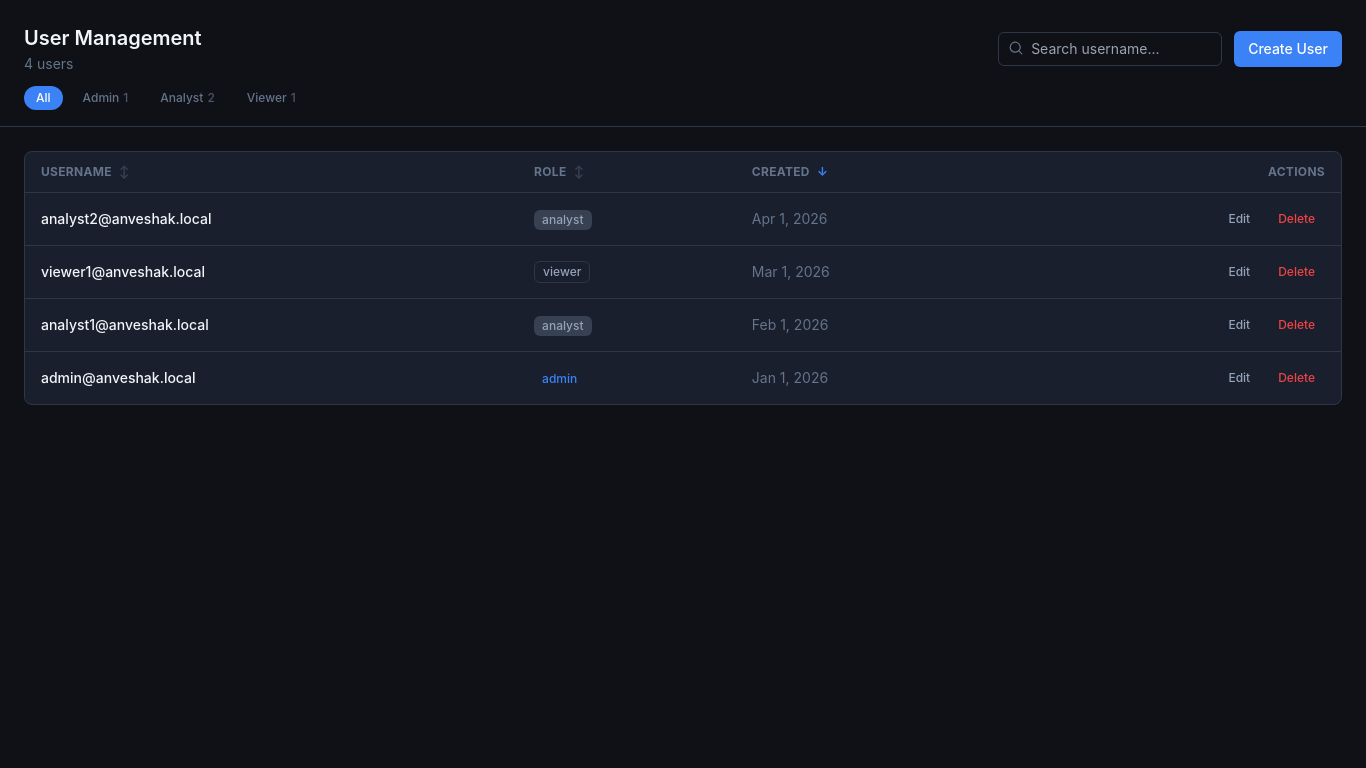
it: UserManagement page › delete button opens confirmation modal
This screenshot has width=1366, height=768.
Expected: the text "admin@anveshak.local" is shown, [25,352,518,404]
Click the button "Delete" in the row of "analyst2@anveshak.local" at (1297, 219), box [1268,205,1325,233]
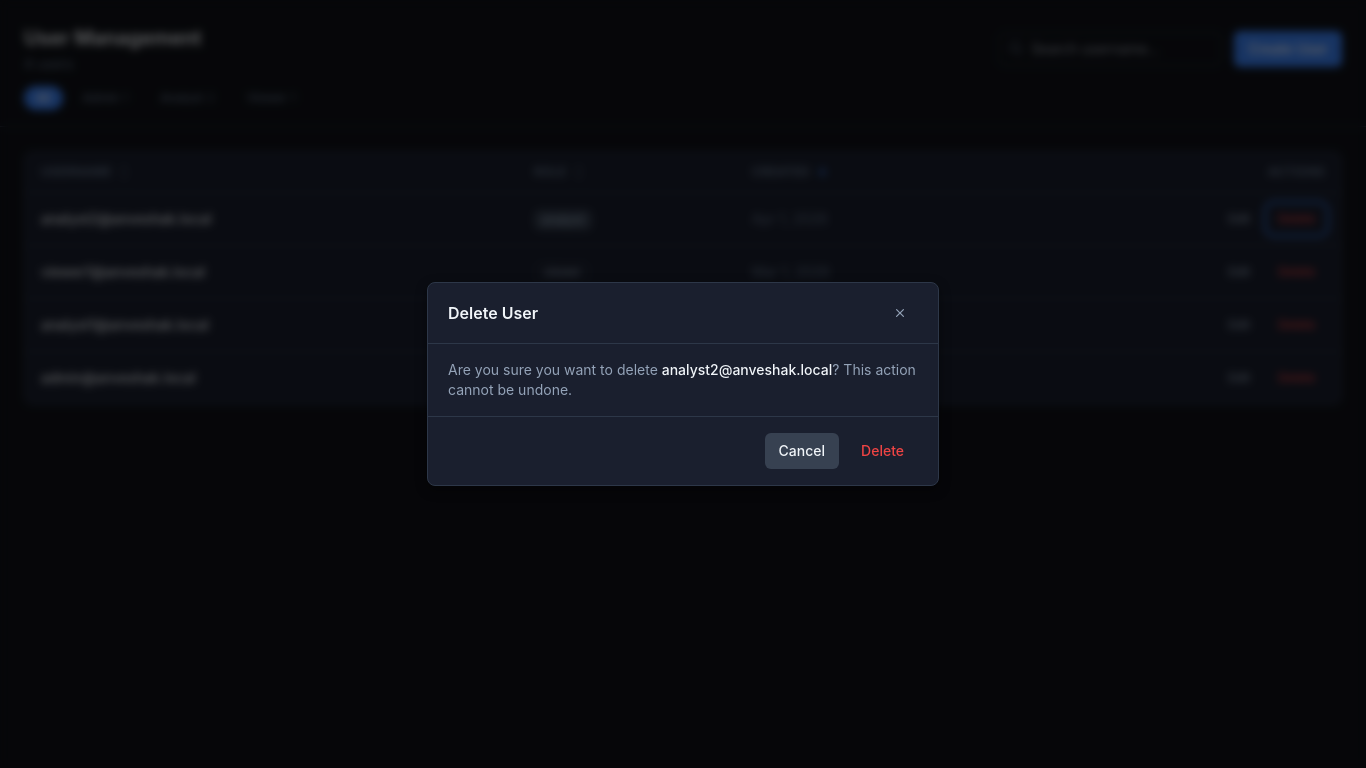
Now the text "Are you sure" is shown, box [448,361,662,378]
Now the text "cannot be undone" is shown, box [448,361,916,398]
